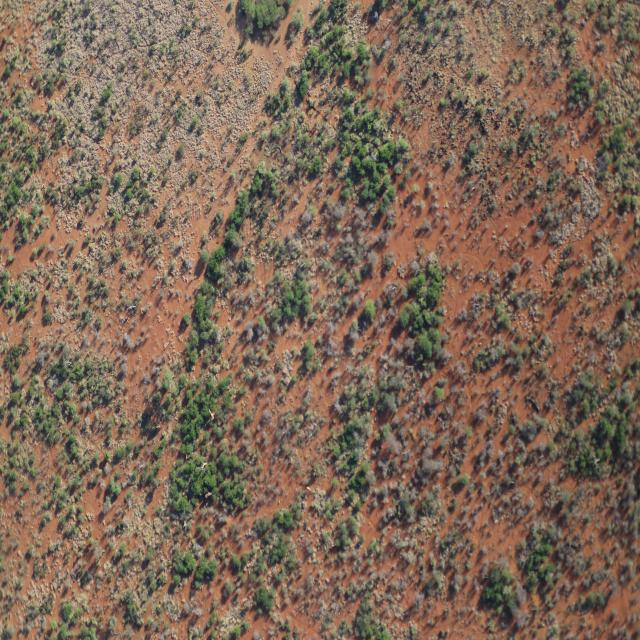elephant: (205, 493, 211, 497)
